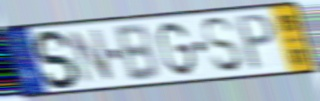B: (112, 21, 161, 83)
G: (157, 20, 199, 79)
N: (67, 26, 116, 86)
P: (235, 11, 278, 74)
S: (33, 28, 81, 91), (201, 14, 246, 75)
